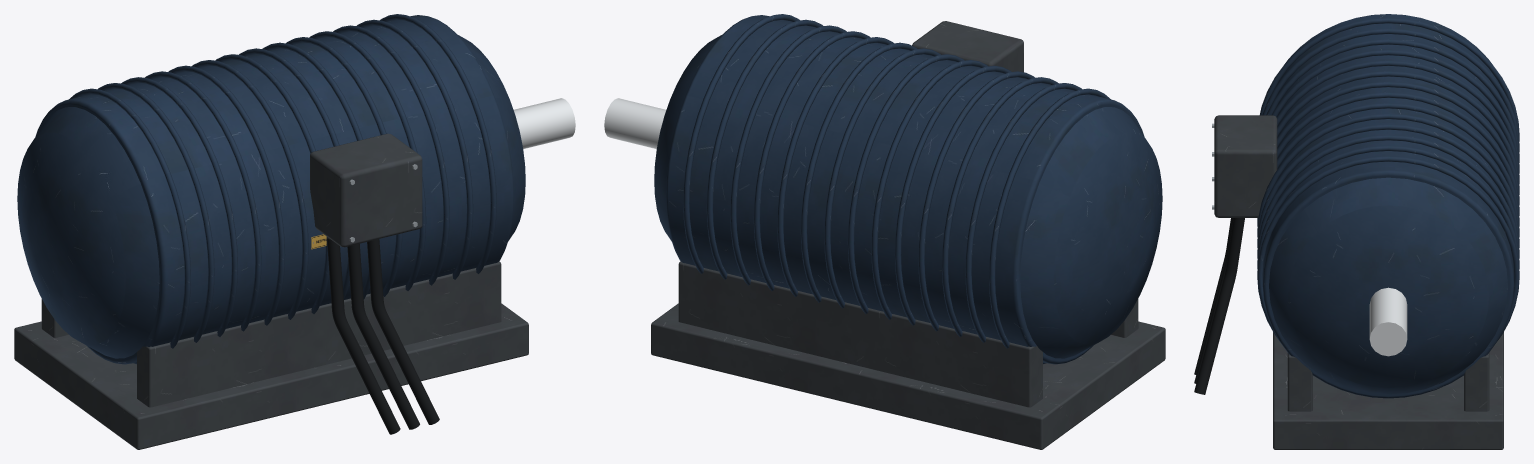
Rendered from MotorS.glb.
3 renders of one model, left to right at view 1: azimuth 30°, elevation 25°; view 2: azimuth 150°, elevation 25°; view 3: azimuth 270°, elevation 25°, orthographic. The views are drawn at different scales.
Visible parts, largest first — view 1: MotorS_Body, MotorS_Shaft; view 2: MotorS_Body, MotorS_Shaft; view 3: MotorS_Body, MotorS_Shaft.
Part boxes in pixels (x1,y1,x2,y2): MotorS_Body: [14, 14, 528, 449]; MotorS_Shaft: [513, 98, 575, 148]; MotorS_Body: [651, 14, 1165, 449]; MotorS_Shaft: [604, 98, 666, 148]; MotorS_Body: [1194, 14, 1519, 449]; MotorS_Shaft: [1369, 287, 1407, 356].
Size of the model in its own units: 2.62 by 1.48 by 1.55.
Materials: 7 (3 with a texture image).
